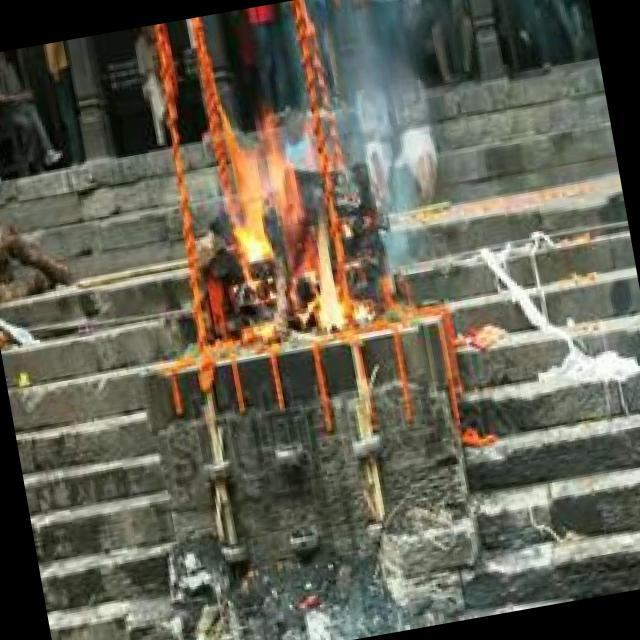Fire: (214, 100, 375, 347)
